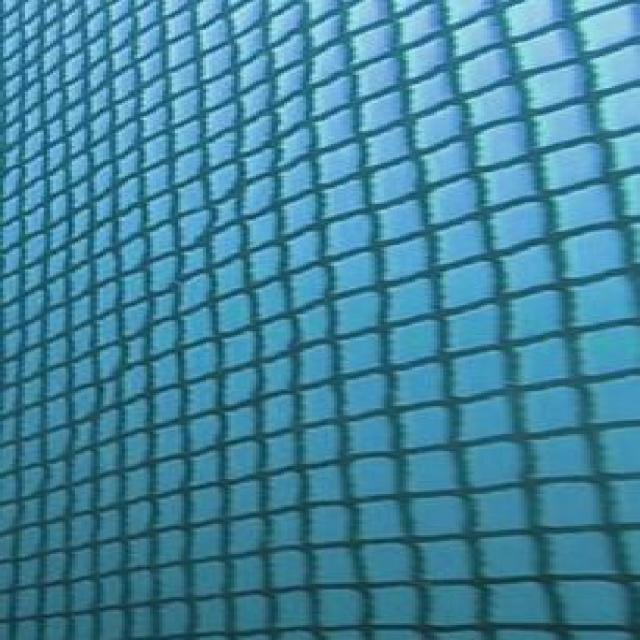fence line: (4, 2, 631, 637)
